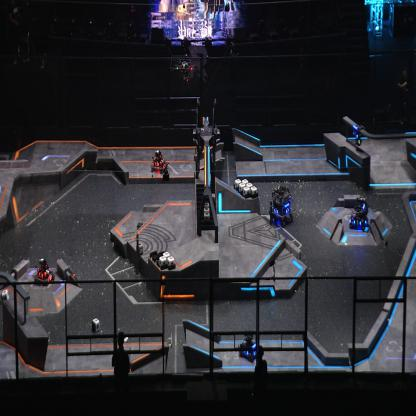car: (269, 184, 294, 228), (348, 196, 370, 231), (32, 256, 56, 288), (237, 331, 258, 361), (150, 148, 169, 174)
